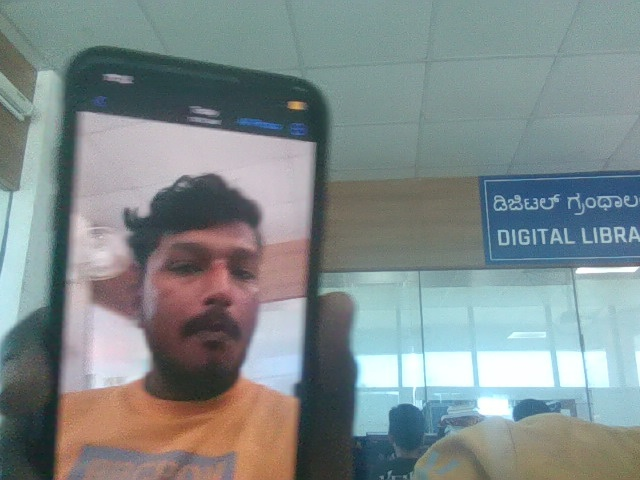fake: (117, 149, 291, 395)
